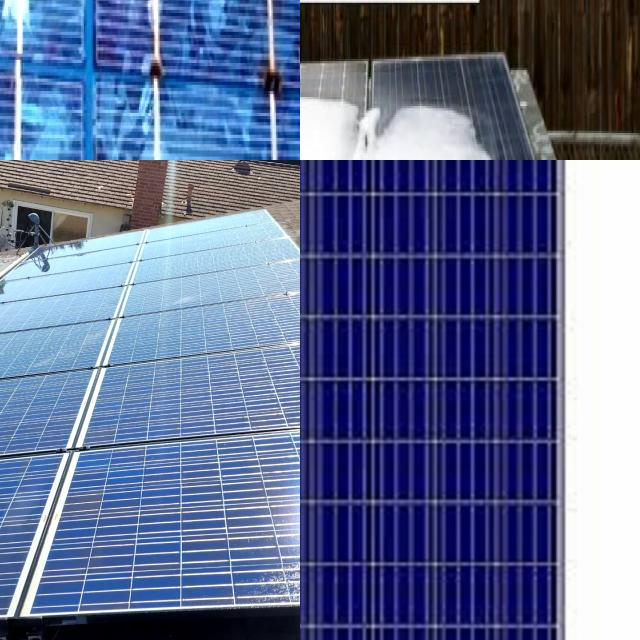crack: (300, 160, 625, 640), (24, 420, 300, 640), (69, 321, 300, 470), (0, 469, 143, 640), (89, 289, 300, 369), (0, 322, 194, 393), (0, 395, 137, 456)
panel: (347, 86, 392, 159), (440, 81, 485, 144), (399, 84, 430, 160), (300, 73, 342, 125), (300, 81, 319, 144), (472, 150, 509, 160)
shadow: (241, 0, 290, 141), (125, 0, 167, 112), (250, 44, 297, 106), (142, 50, 188, 103)
